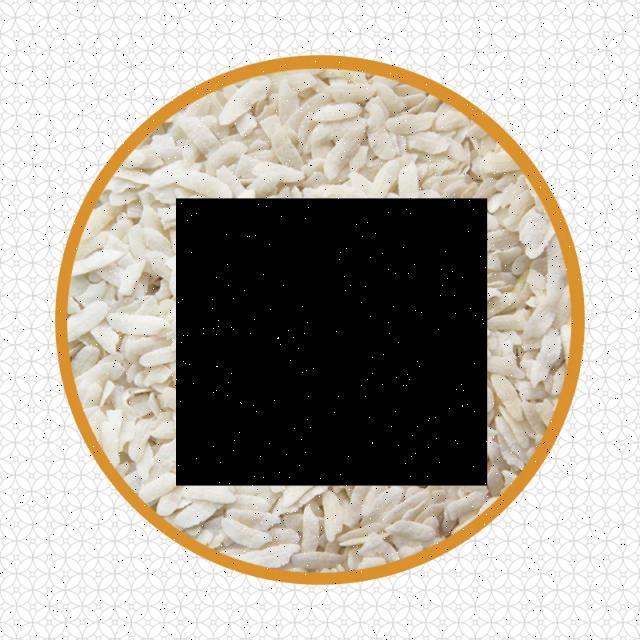Beaten_Rice: (176, 199, 487, 486)
